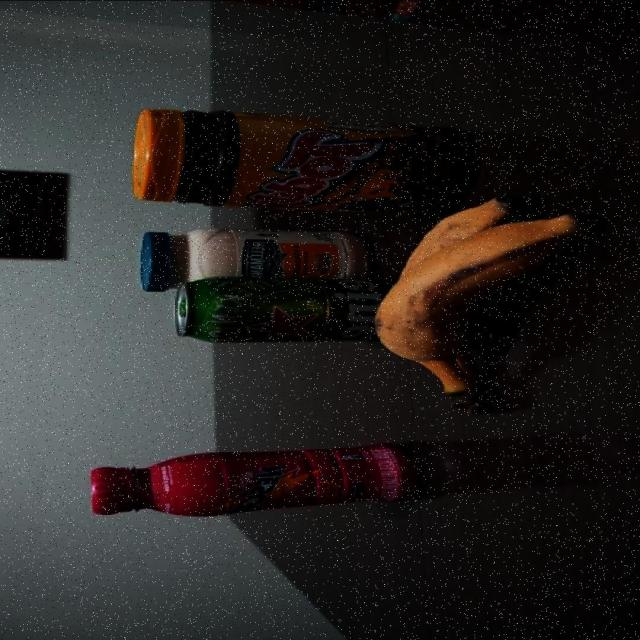Banana: (374, 190, 604, 419)
BeerCan: (171, 275, 391, 343)
ChocolateMilk: (88, 441, 424, 517)
ChocolatePowder: (129, 105, 478, 217)
Cracker: (84, 0, 453, 23)
Mayonnaise: (136, 226, 378, 294)
